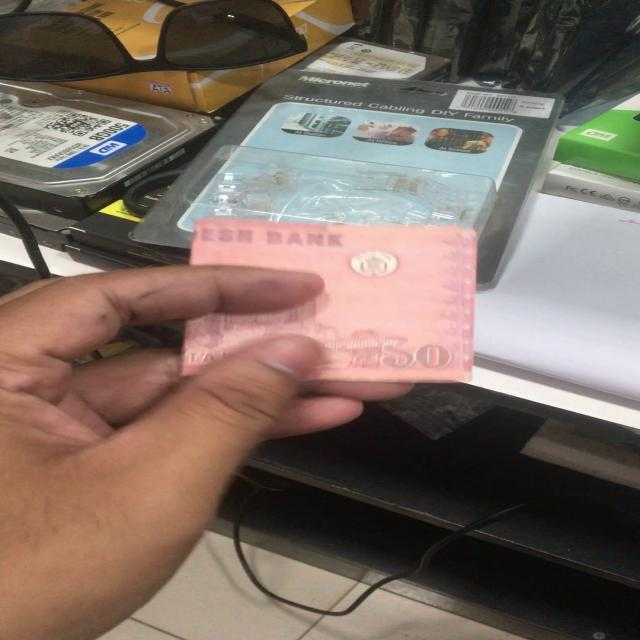Taka: (182, 214, 474, 383)
